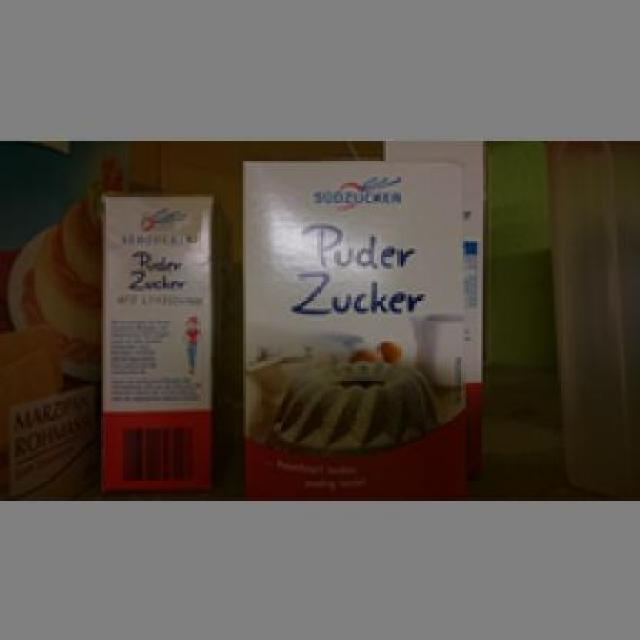Sugar: (237, 155, 466, 494), (97, 186, 214, 488)
